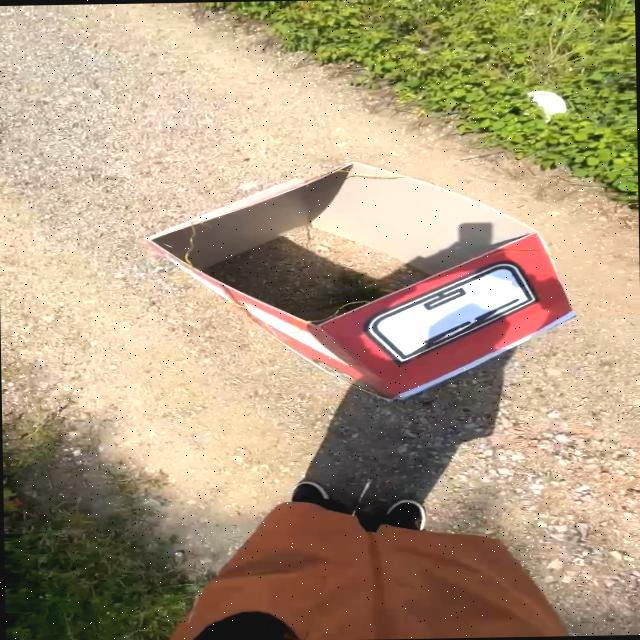red_car: (120, 132, 600, 423)
